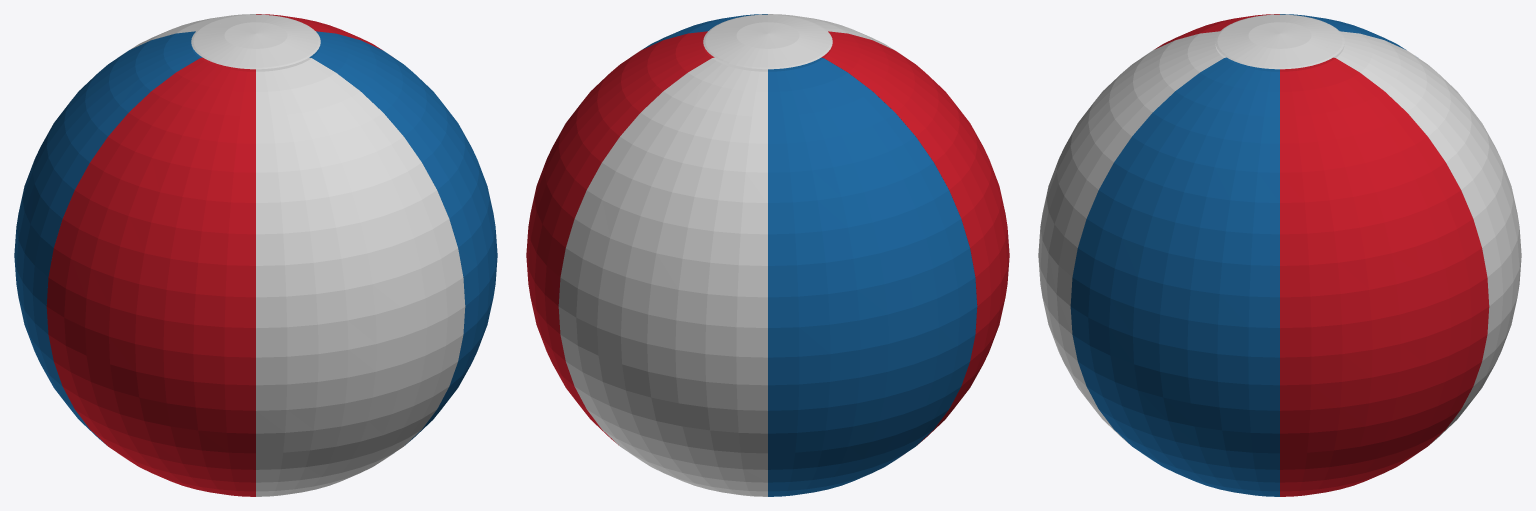
File: beachBall.glb
3 renders of one model, left to right at view 1: azimuth 30°, elevation 25°; view 2: azimuth 150°, elevation 25°; view 3: azimuth 270°, elevation 25°, orthographic.
Parts seen in each view (by area): view 1: Mesh_Mesh_head_geo001_lambert2SG001; view 2: Mesh_Mesh_head_geo001_lambert2SG001; view 3: Mesh_Mesh_head_geo001_lambert2SG001.
Part boxes in pixels (x1,y1,x2,y2): Mesh_Mesh_head_geo001_lambert2SG001: [14, 14, 497, 496]; Mesh_Mesh_head_geo001_lambert2SG001: [526, 14, 1009, 496]; Mesh_Mesh_head_geo001_lambert2SG001: [1038, 14, 1521, 496].
Size of the model in its own units: 20 by 20.25 by 19.99.
